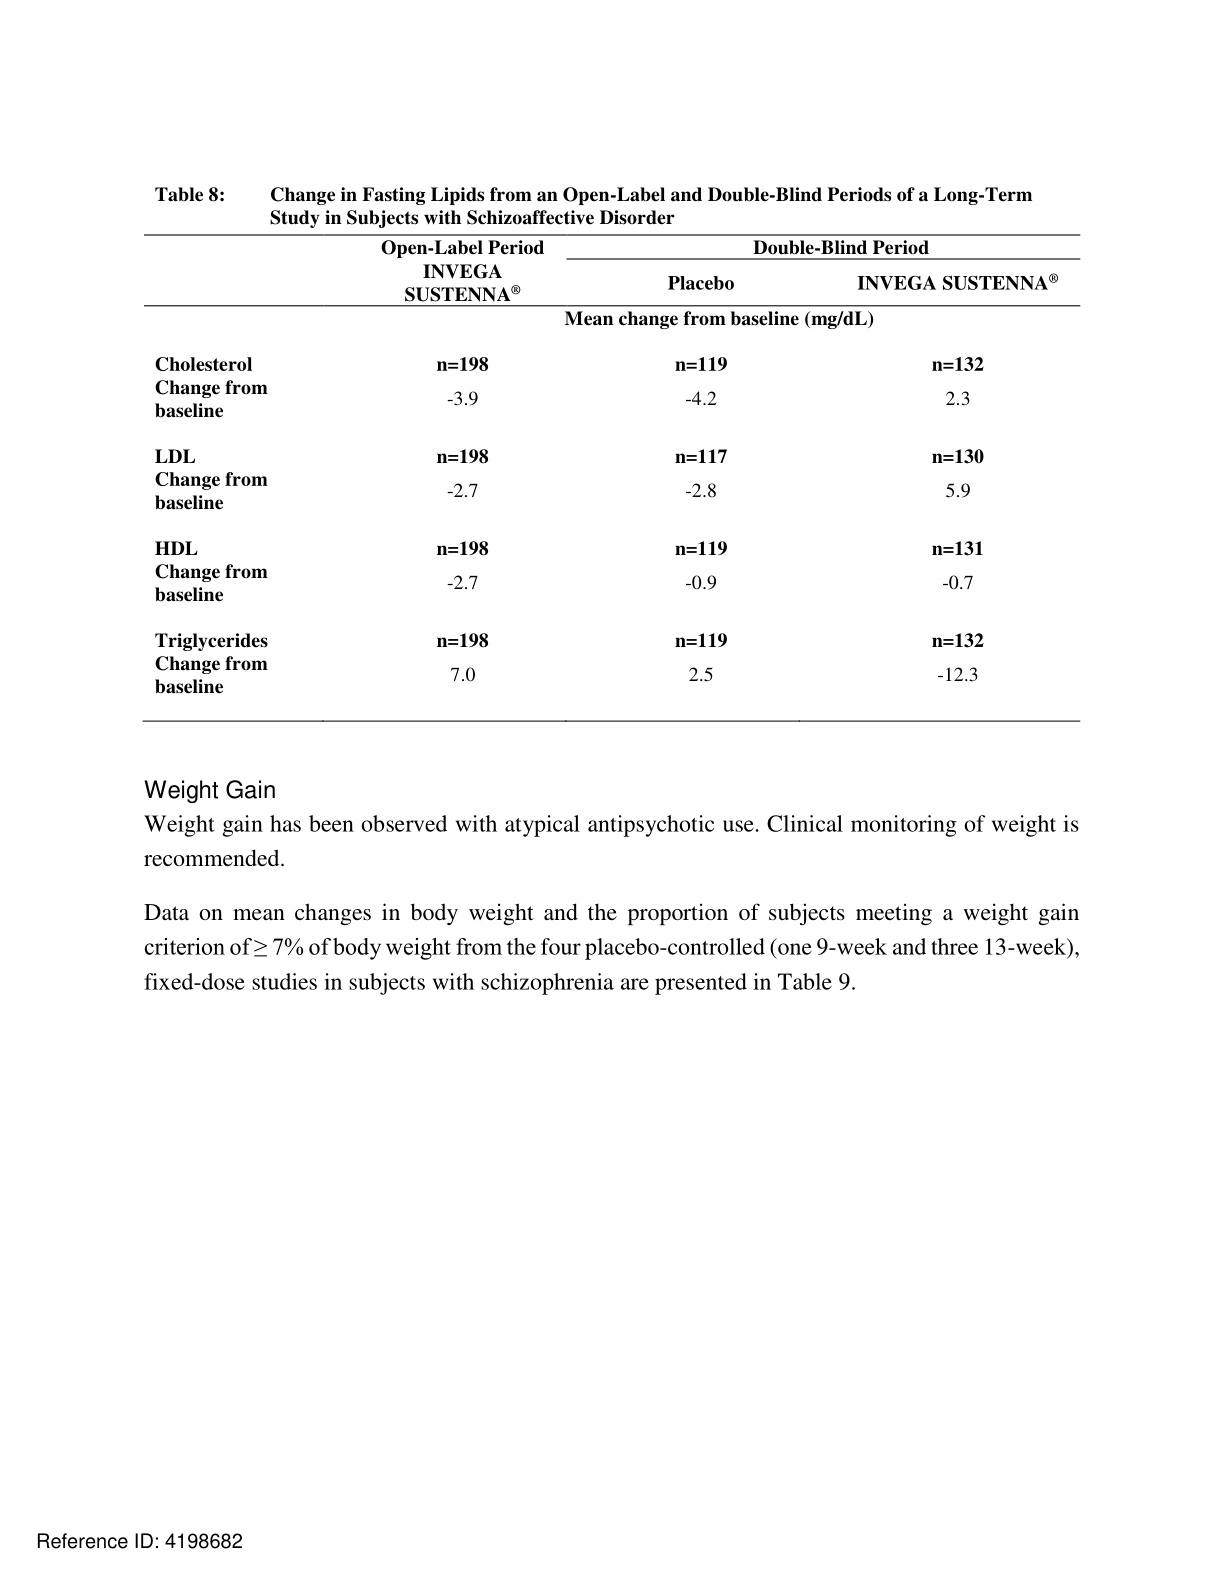partial_lined_merged_cells: (140, 231, 1085, 725)
